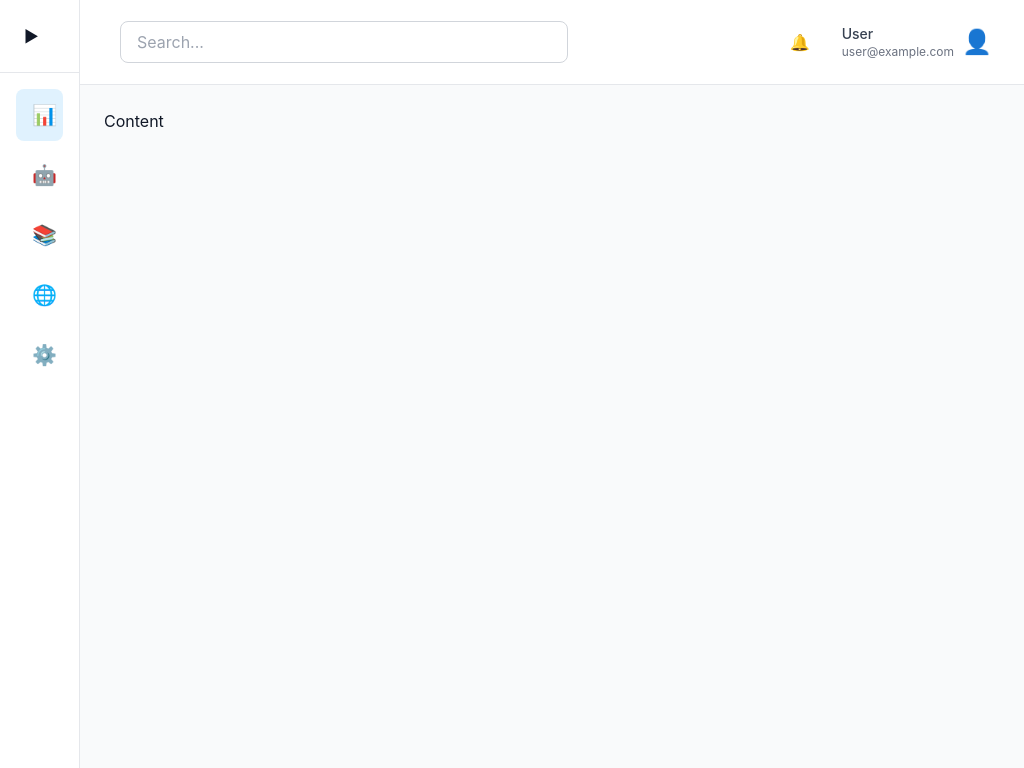
Scenario: Shared Components › TopBar Component › opens user menu dropdown when clicked
Click the button with test id "user-menu-button".
click(917, 42)  # box [834,16,1000,68]
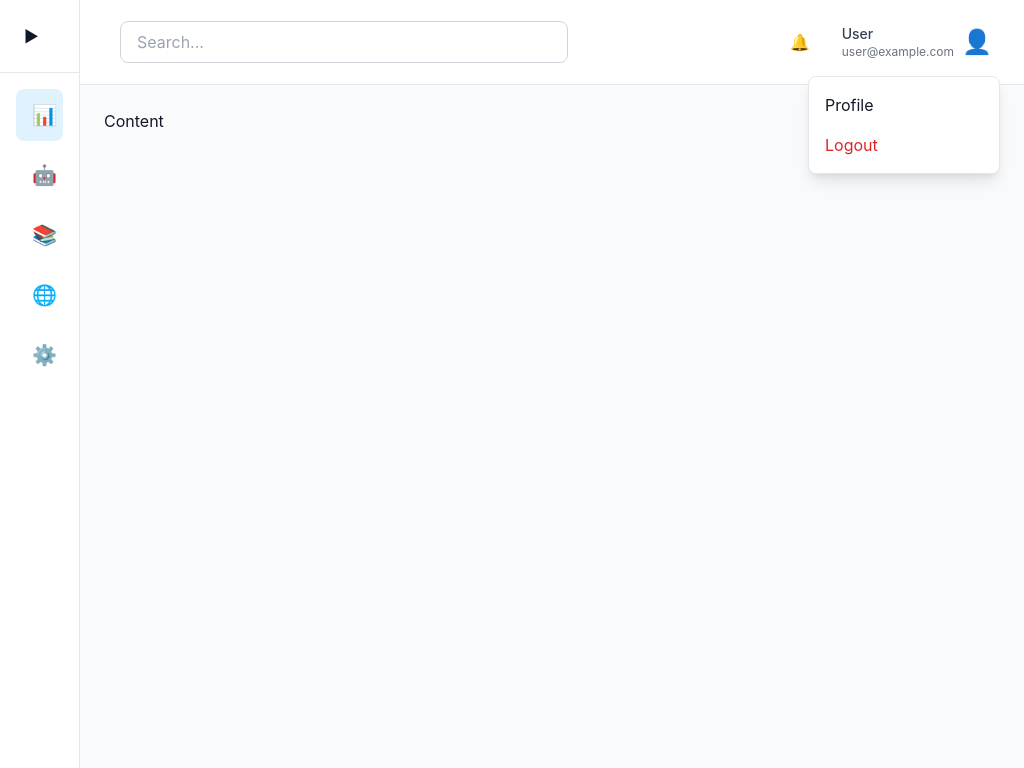
Expected: the menu item "Profile" is shown, [809,85,999,125]
Expected: the menu item "Logout" is shown, [809,125,999,165]
